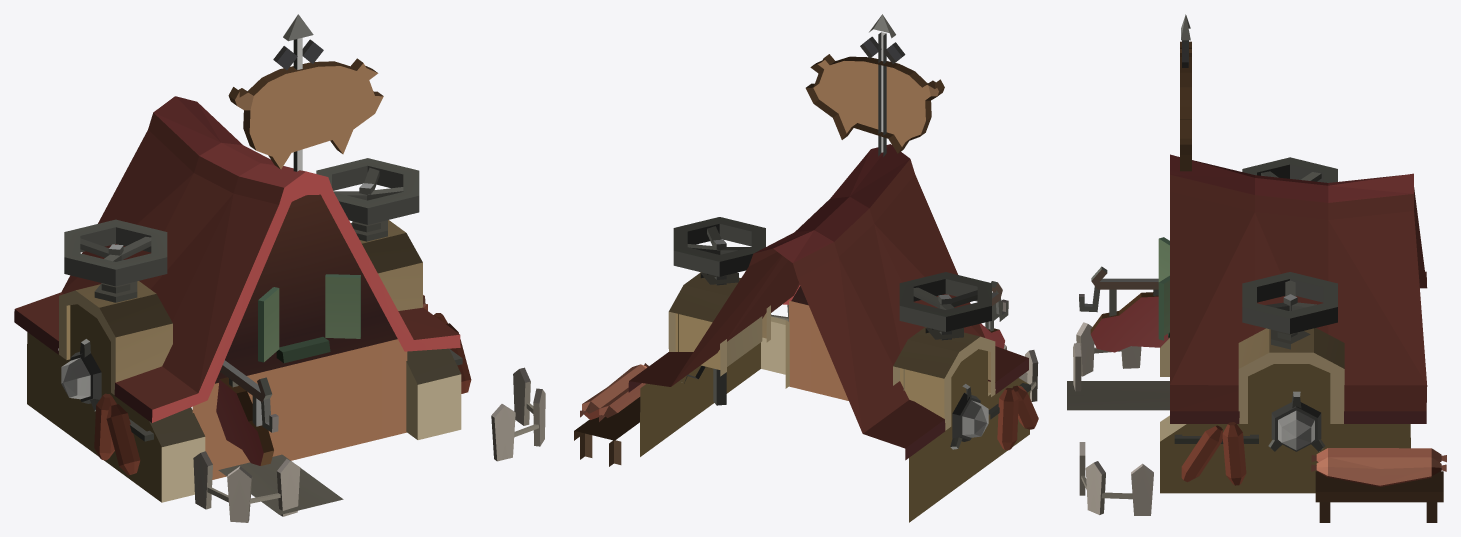
Rendered from building12.fbx.
The picture shows the model from 3 angles, left to right: view 1: azimuth 30°, elevation 25°; view 2: azimuth 150°, elevation 25°; view 3: azimuth 270°, elevation 25°; orthographic projection. The views are drawn at different scales.
Visible parts, largest first — view 1: building12; view 2: building12; view 3: building12.
Part boxes in pixels (box(x1,y1,x2,y2)): building12: box(14, 14, 545, 522); building12: box(574, 14, 1038, 522); building12: box(1067, 14, 1446, 522).
Bounding box in the file's own units: 2.13 × 2.38 × 1.96.
1 material, 1 textured.
